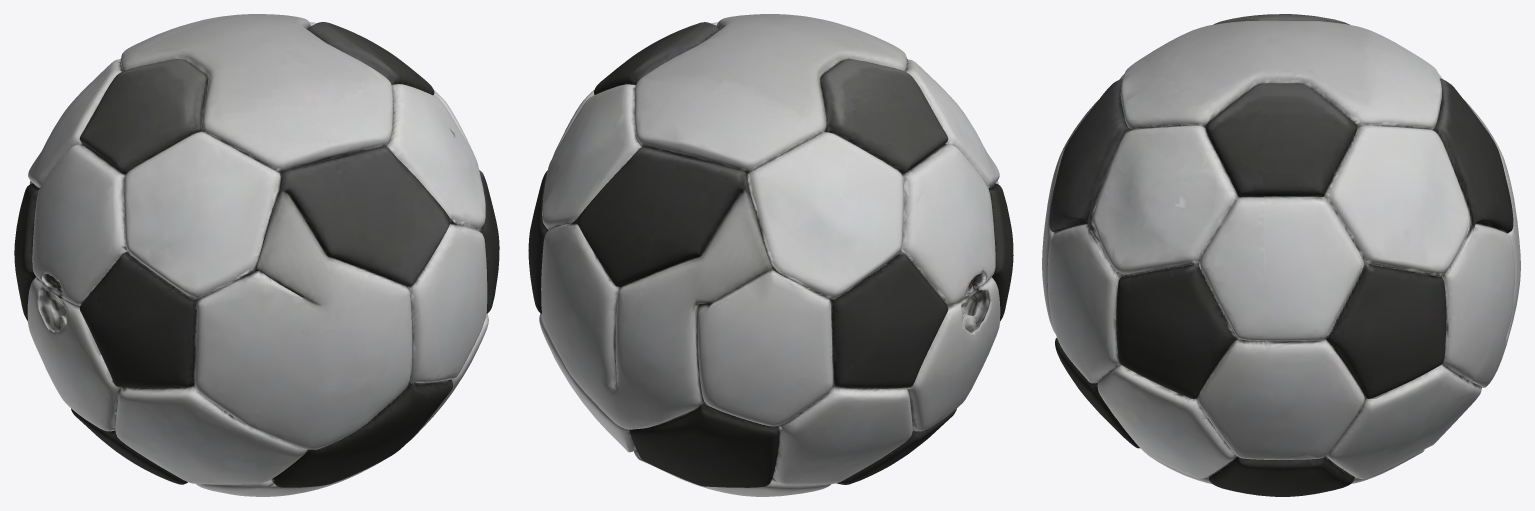
File: ball.glb
3 renders of one model, left to right at view 1: azimuth 30°, elevation 25°; view 2: azimuth 150°, elevation 25°; view 3: azimuth 270°, elevation 25°, orthographic.
Visible parts, largest first — view 1: tripo_node_5da46feb-5e77-48c7-8b46-f183652dfc8d; view 2: tripo_node_5da46feb-5e77-48c7-8b46-f183652dfc8d; view 3: tripo_node_5da46feb-5e77-48c7-8b46-f183652dfc8d.
Boxes of the visible parts, box(x1,y1,x2,y2) form: tripo_node_5da46feb-5e77-48c7-8b46-f183652dfc8d: box(14, 14, 499, 496); tripo_node_5da46feb-5e77-48c7-8b46-f183652dfc8d: box(528, 14, 1013, 496); tripo_node_5da46feb-5e77-48c7-8b46-f183652dfc8d: box(1042, 14, 1520, 496).
Size of the model in its own units: 0.9934 by 0.9959 by 1.
Materials: 1 (1 with a texture image).
